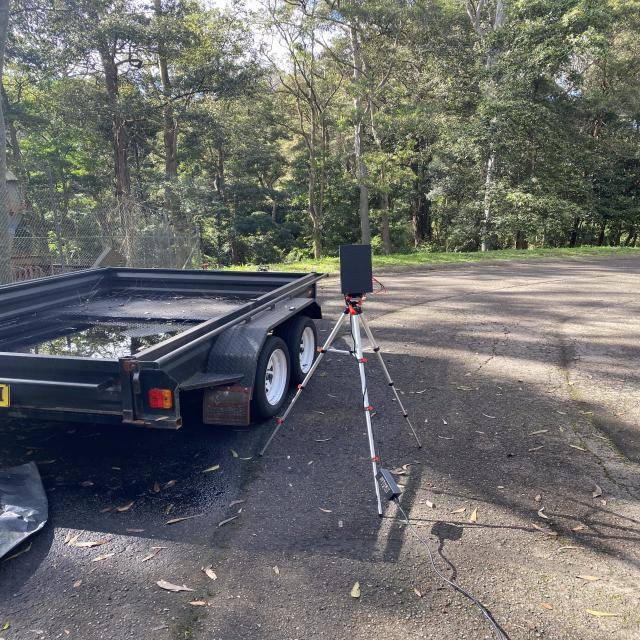matrix: (334, 240, 377, 296)
